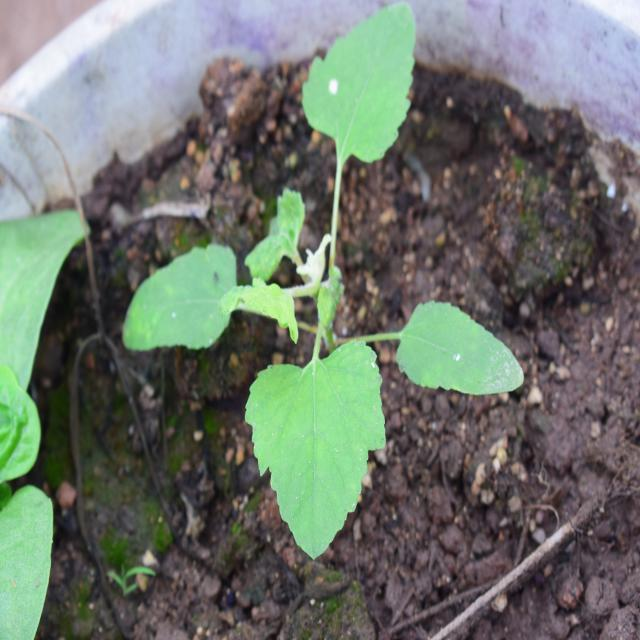cocklebur: (104, 34, 511, 514)
